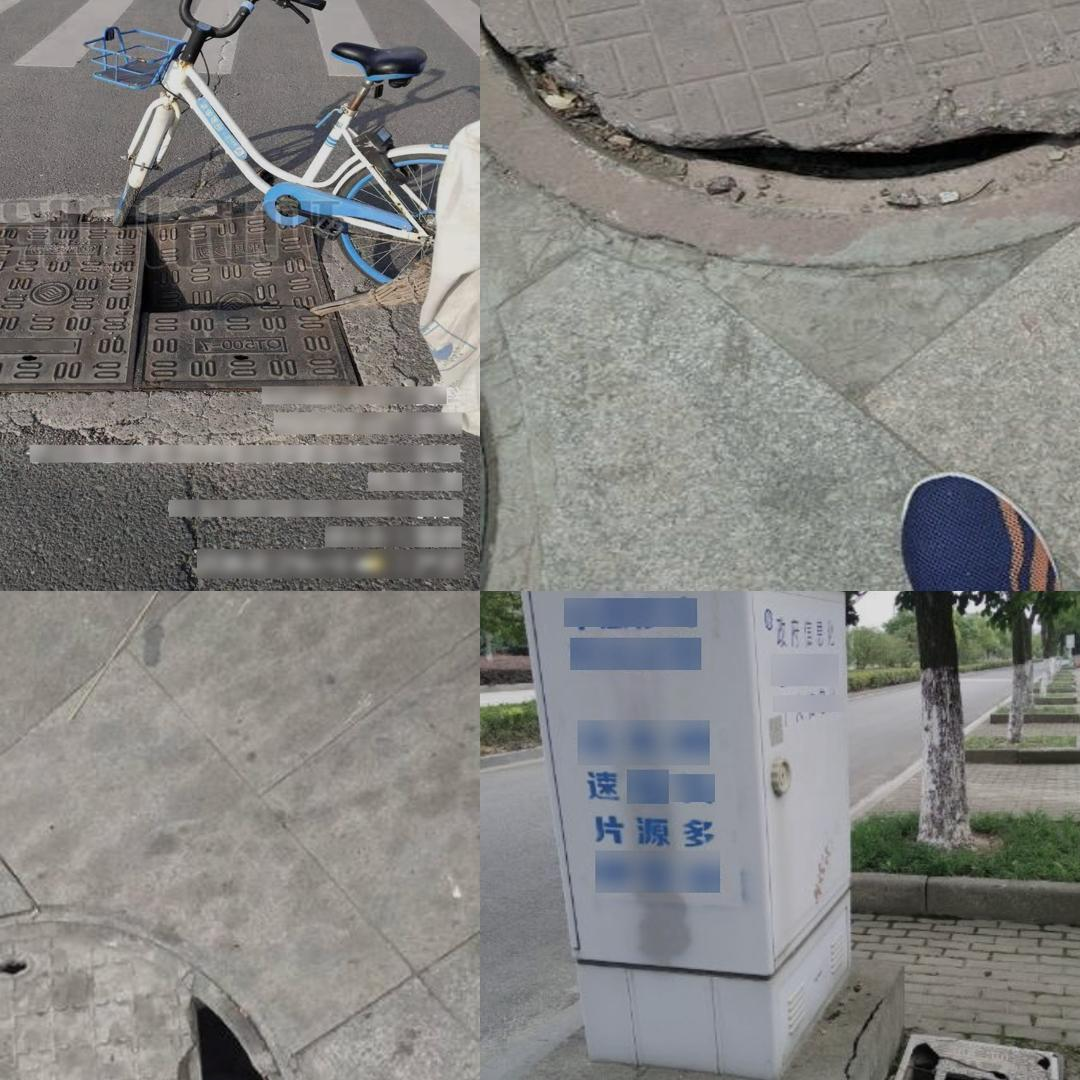broke: (480, 0, 1080, 276), (0, 206, 367, 394), (0, 878, 336, 1080), (854, 1030, 1072, 1080)
